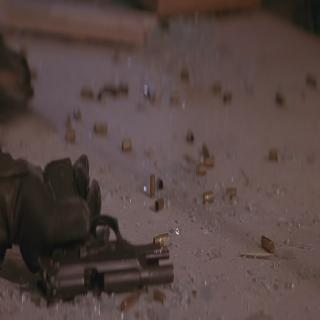gun: (44, 146, 178, 310)
